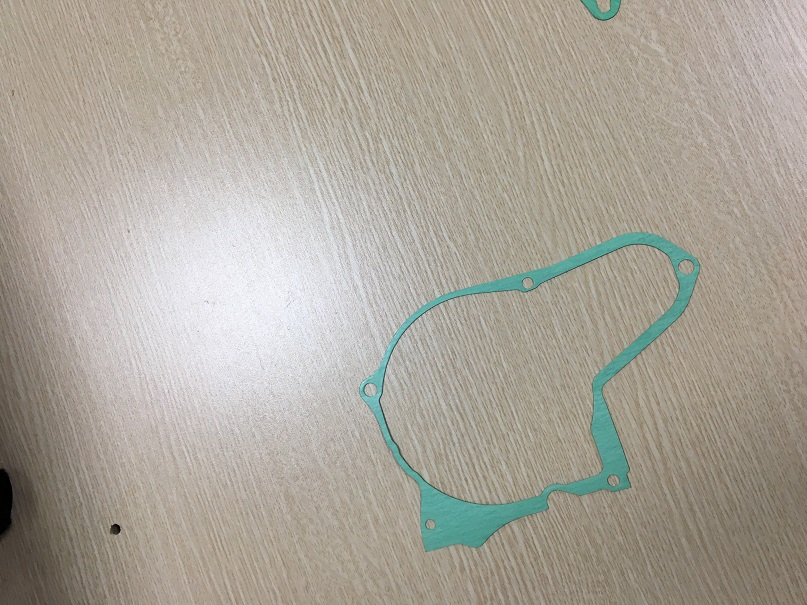type1: (347, 218, 708, 563)
